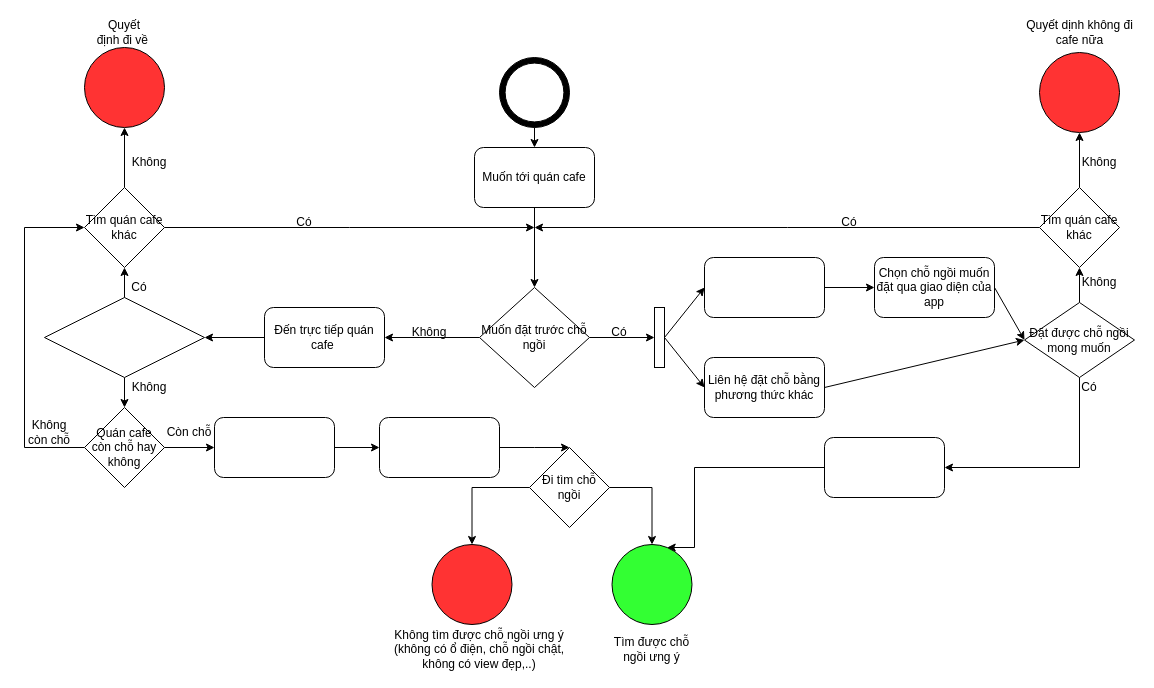
Image size: 1154x688. Some labels were removed from this diagram. The shapes that lost their labels are listed below. From the top down, each one's box as (x1, y1, x2, y2) in pixels, then its label:
(704, 256, 824, 318): Sử dụng CafeGo để tìm quán và đặt chỗ
(44, 296, 204, 378): Quán cafe đóng cửa
(214, 416, 334, 478): Đặt chỗ qua sơ đồ
(378, 416, 500, 478): Order nước
(824, 436, 944, 498): Đi tới quán cafe
